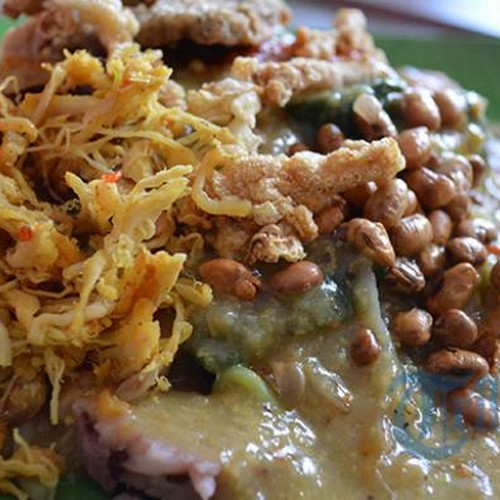tipat blayag: (13, 12, 478, 488)
